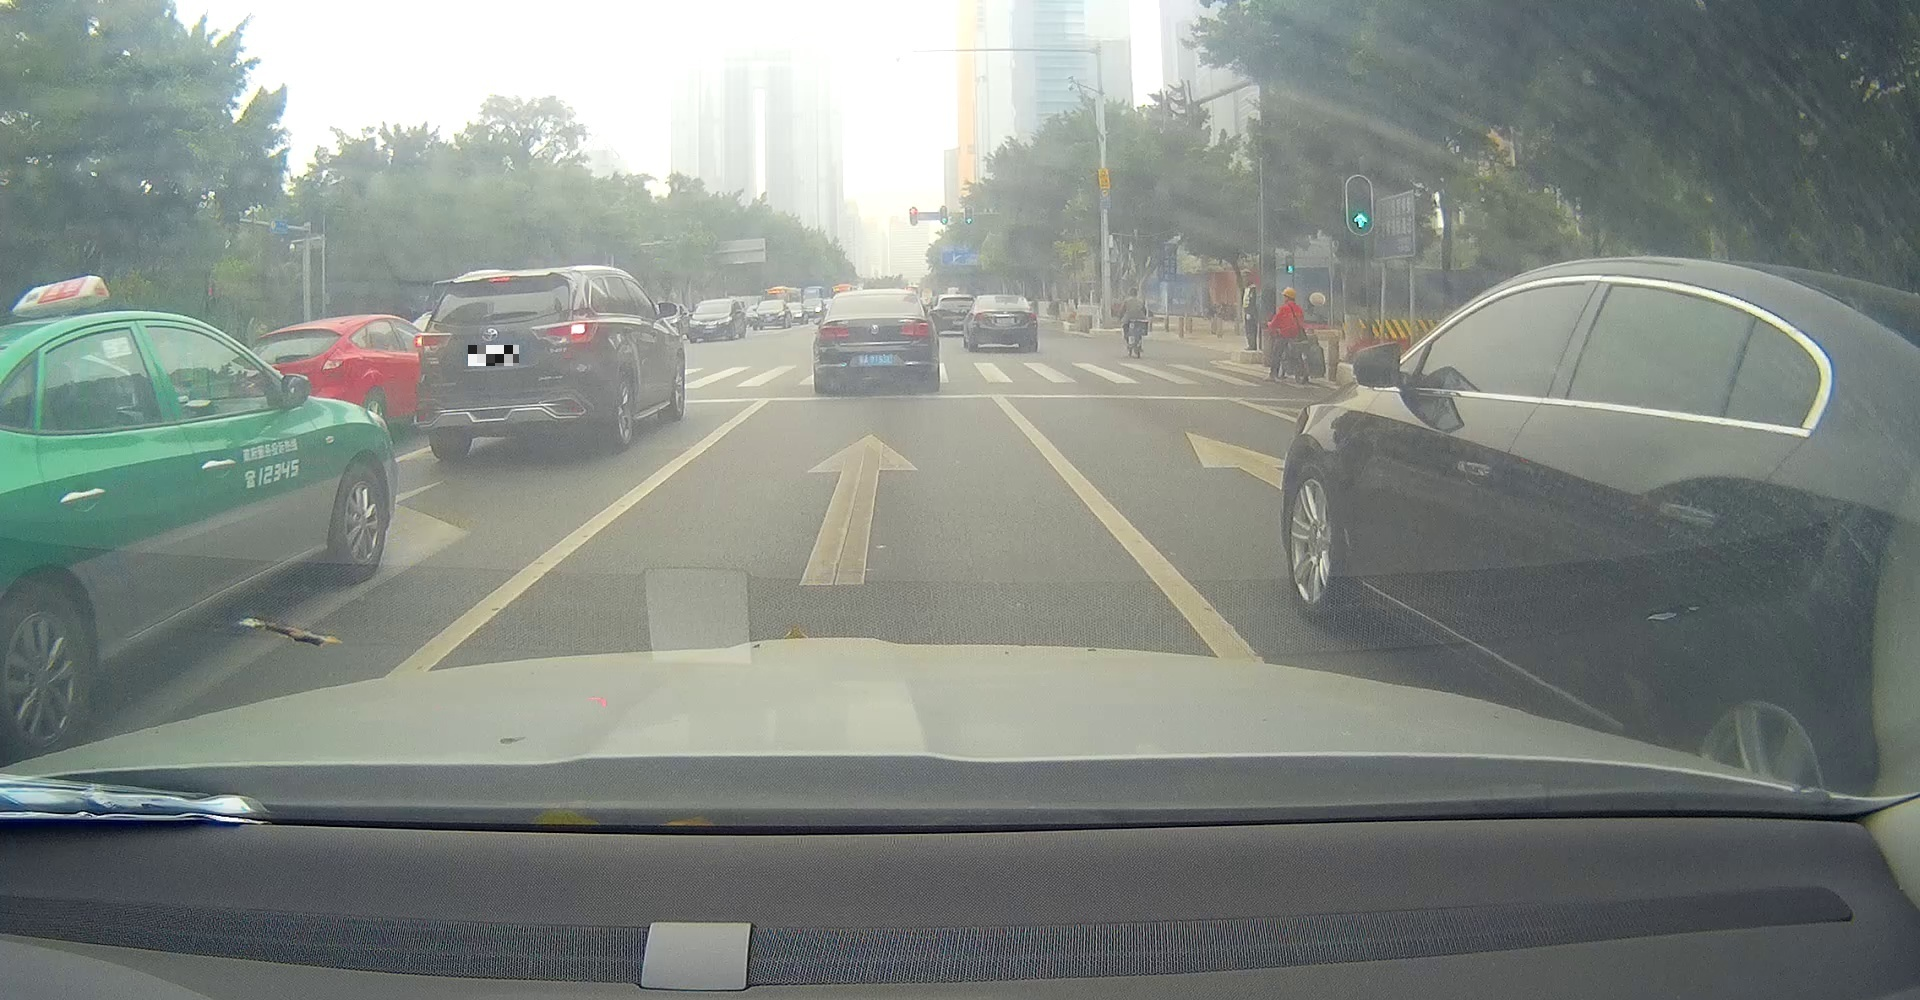L_light: (413, 331, 453, 350), (818, 324, 850, 340), (974, 312, 987, 324)
R_light: (532, 322, 597, 341), (899, 321, 933, 338), (1023, 311, 1035, 321)
T_light: (488, 275, 513, 282), (863, 294, 888, 299), (996, 297, 1010, 299)
day-brake: (413, 269, 599, 459)
day-no: (815, 289, 941, 395), (970, 294, 1039, 350)
plate_1: (469, 345, 519, 365)
